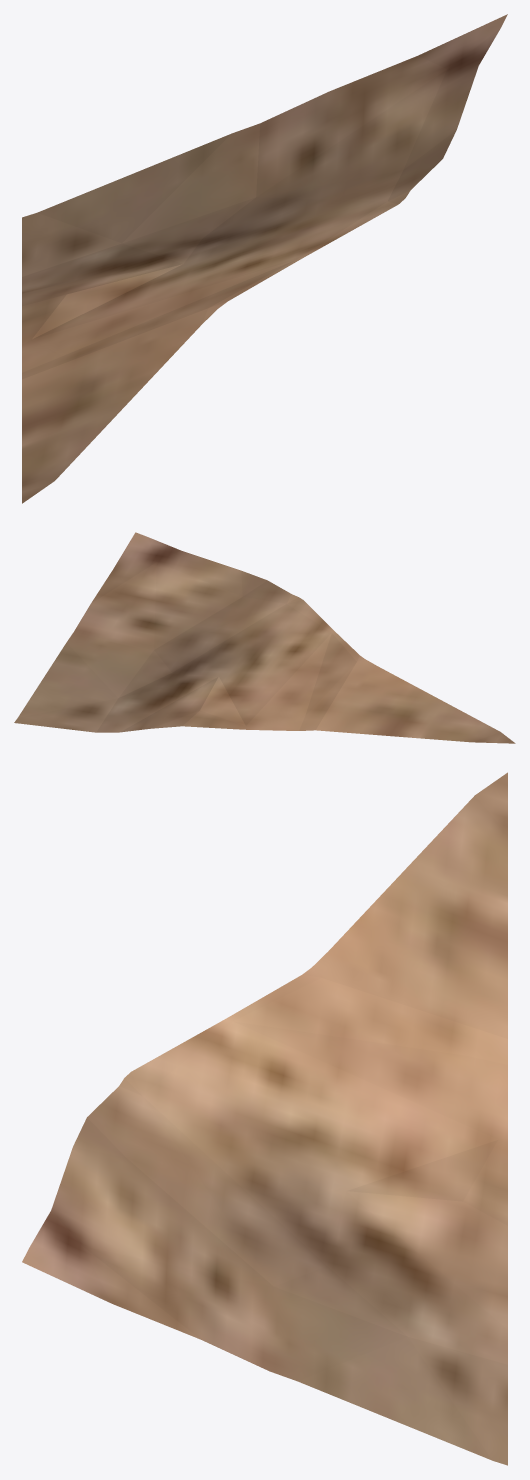
The picture shows the model from 3 angles, top to bottom: view 1: azimuth 90°, elevation 25°; view 2: azimuth 150°, elevation 25°; view 3: azimuth 270°, elevation 25°; orthographic projection. The views are drawn at different scales.
Size of the model in its own units: 0.6769 by 0.1311 by 0.2839.
Materials: 1 (1 with a texture image).
